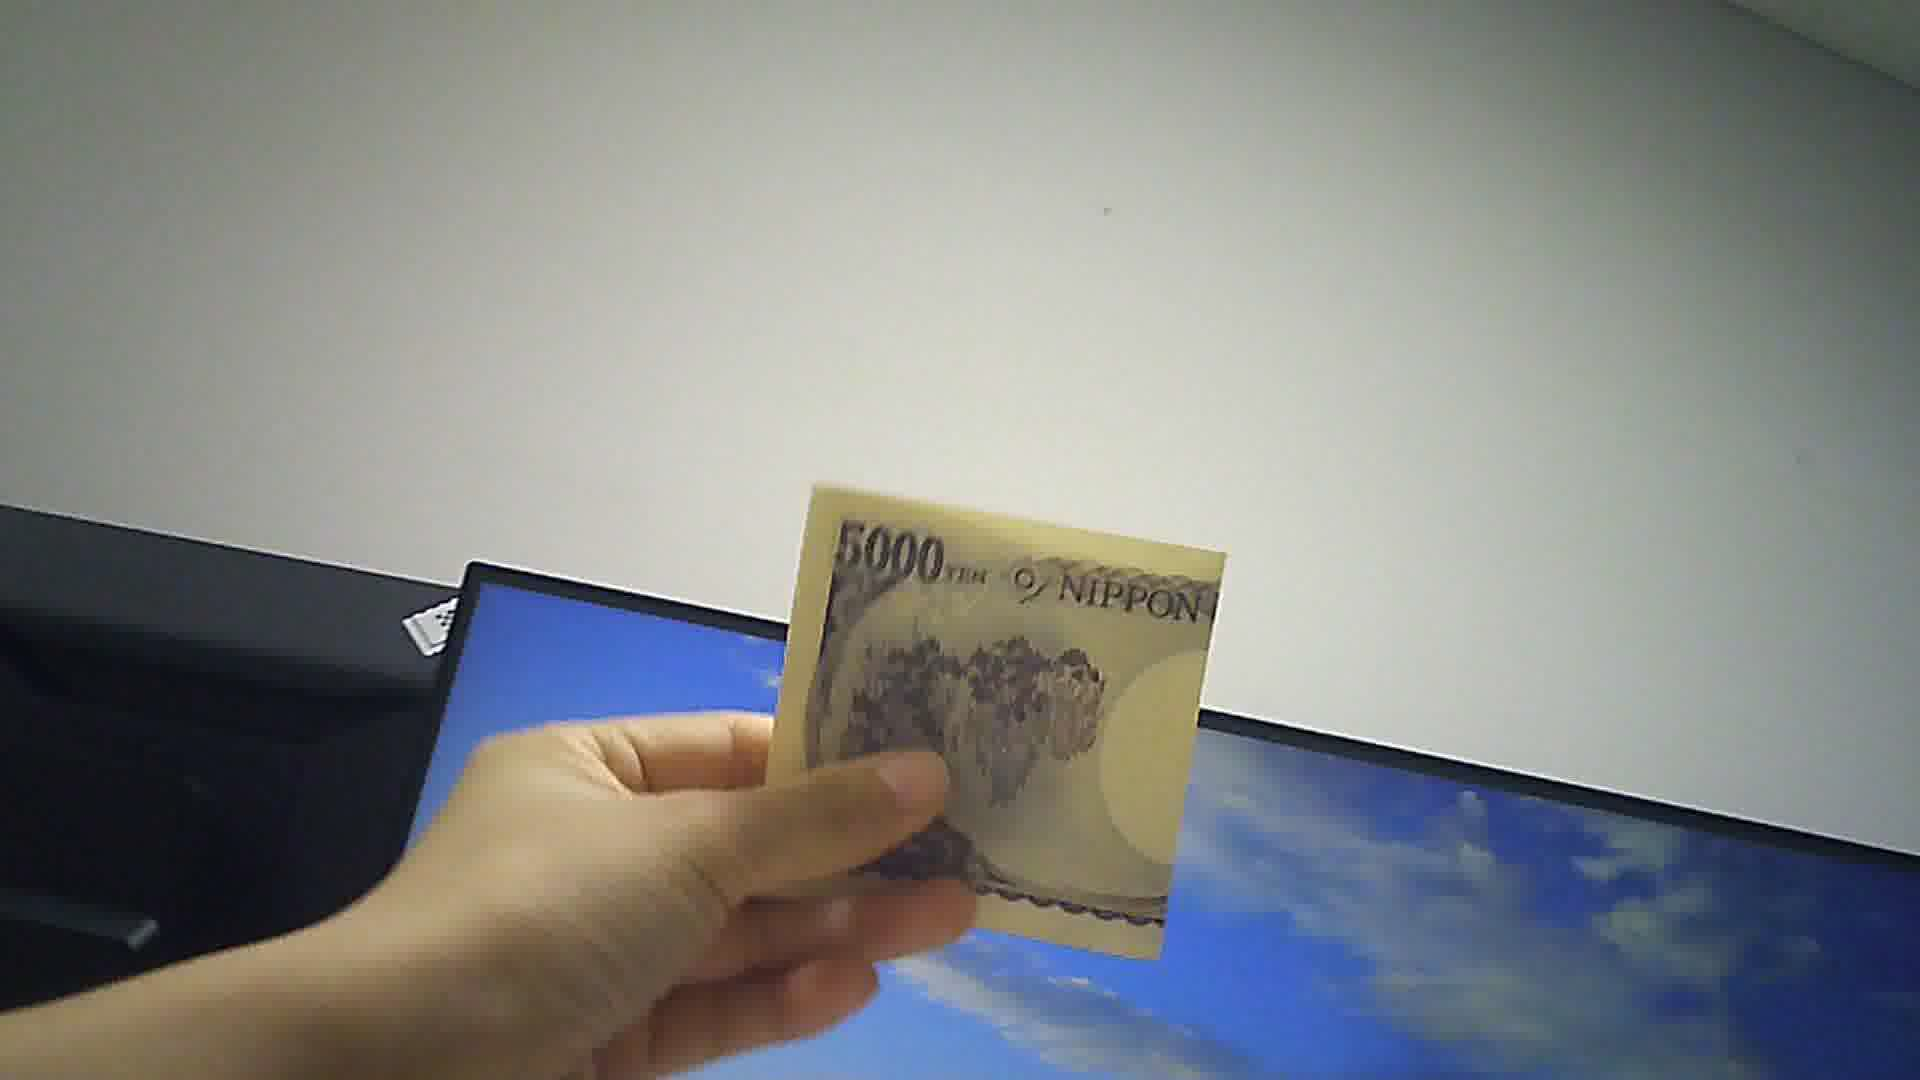5,000 Yen: (756, 473, 1261, 967)
